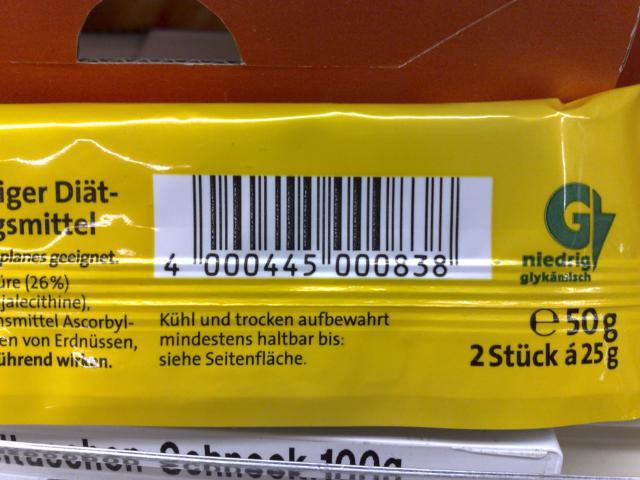Barkod: (190, 174, 460, 252)
